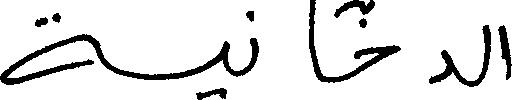X: (0, 8, 100, 89), (148, 36, 229, 99), (356, 0, 399, 79), (431, 45, 463, 88), (309, 0, 320, 85), (500, 20, 511, 84), (480, 20, 488, 87), (250, 6, 257, 75)
